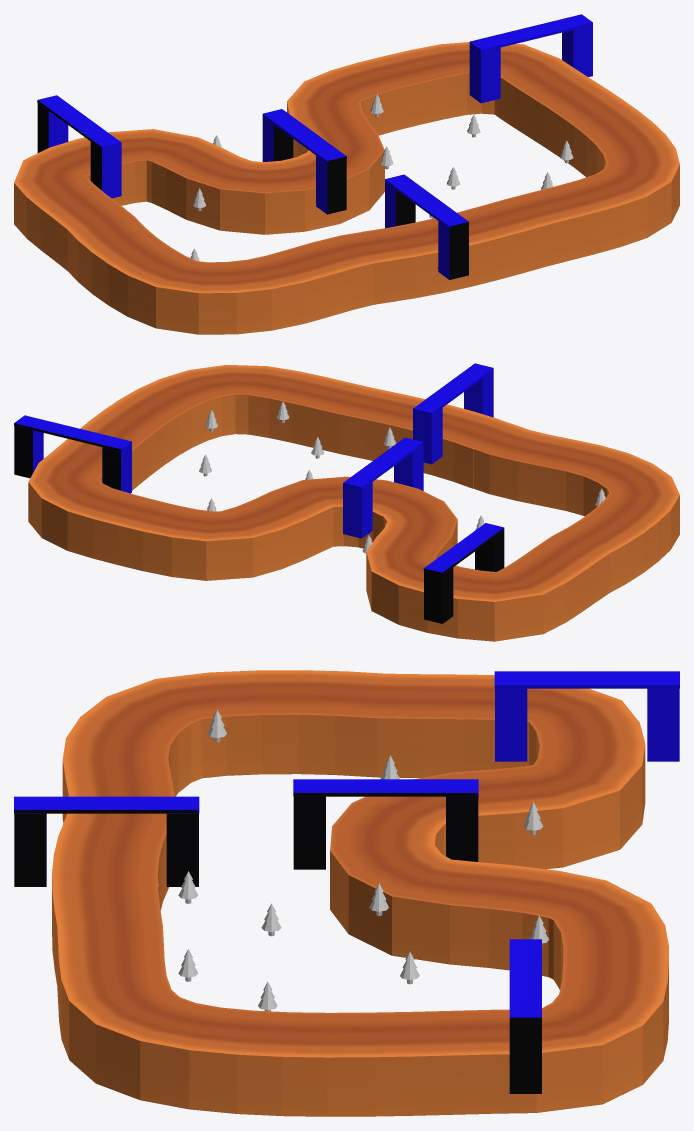
File: road.gltf
The picture shows the model from 3 angles, top to bottom: view 1: azimuth 30°, elevation 25°; view 2: azimuth 150°, elevation 25°; view 3: azimuth 270°, elevation 25°; orthographic projection. The views are drawn at different scales.
Parts seen in each view (by area): view 1: Road.001, Road, Cube.011, Cube.010, Cube.001, Cube.006, Cube.009, Cube.004, Cube.003, Cube.008, Cube.012, Cube.005 (+2 smaller); view 2: Road.001, Road, Cube.010, Cube.005, Cube.007, Cube.009, Cube.003, Cube.004, Cube.012, Cube.002, Cube.011, Cube.001 (+2 smaller); view 3: Road.001, Road, Cube.004, Cube.009, Cube.003, Cube.010, Cube.001, Cube.007, Cube.006, Cube.008, Cube.012, Cube.002 (+1 smaller).
Boxes of the visible parts, x1,y1,x2,y2 form: Road.001: (14, 42, 679, 334); Road: (14, 88, 679, 310); Cube.011: (469, 44, 500, 103); Cube.010: (469, 14, 592, 52); Cube.001: (438, 221, 468, 279); Cube.006: (316, 155, 346, 214); Cube.009: (37, 95, 121, 149); Cube.004: (262, 109, 346, 163); Cube.003: (385, 174, 468, 228); Cube.008: (90, 142, 121, 198); Cube.012: (562, 25, 592, 76); Cube.005: (262, 116, 293, 161); Road.001: (28, 365, 679, 641); Road: (28, 409, 679, 618); Cube.010: (14, 415, 131, 451); Cube.005: (343, 482, 372, 538); Cube.007: (424, 567, 453, 623); Cube.009: (423, 523, 504, 575); Cube.003: (413, 363, 493, 415); Cube.004: (343, 437, 423, 489); Cube.012: (14, 426, 43, 478); Cube.002: (413, 408, 442, 464); Cube.011: (102, 444, 131, 493); Cube.001: (464, 370, 493, 417); Road.001: (52, 670, 668, 1116); Road: (52, 737, 668, 1081); Cube.004: (293, 779, 478, 796); Cube.009: (494, 671, 679, 688); Cube.003: (14, 796, 199, 813); Cube.010: (509, 939, 541, 1021); Cube.001: (14, 813, 46, 886); Cube.007: (647, 688, 679, 761); Cube.006: (293, 796, 325, 869); Cube.008: (495, 688, 527, 761); Cube.012: (509, 1021, 541, 1093); Cube.002: (166, 813, 198, 886).
Size of what is drawn, in the model's own units: 58.81 by 7.69 by 41.35.
